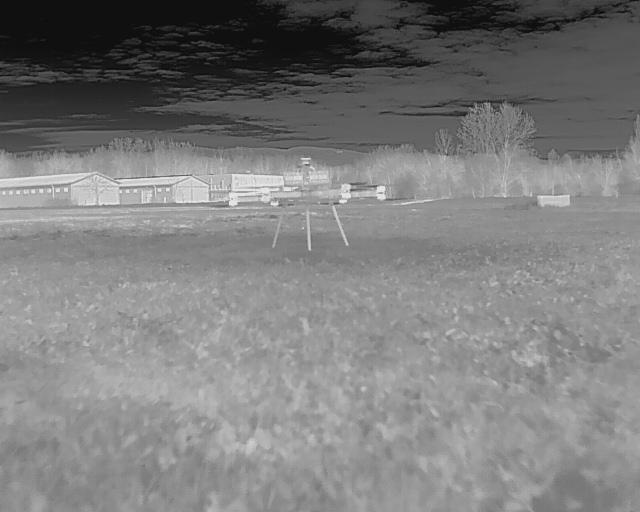drone: (201, 161, 403, 257)
